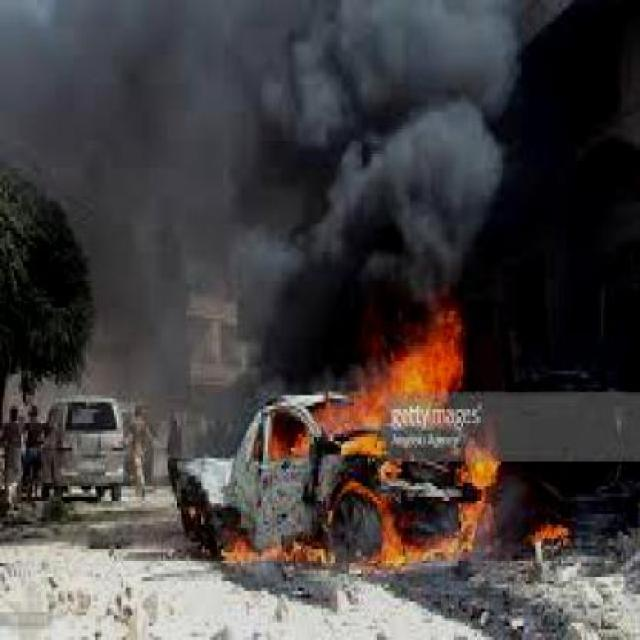Fire: (253, 308, 502, 574)
Smoke: (104, 0, 536, 283)
